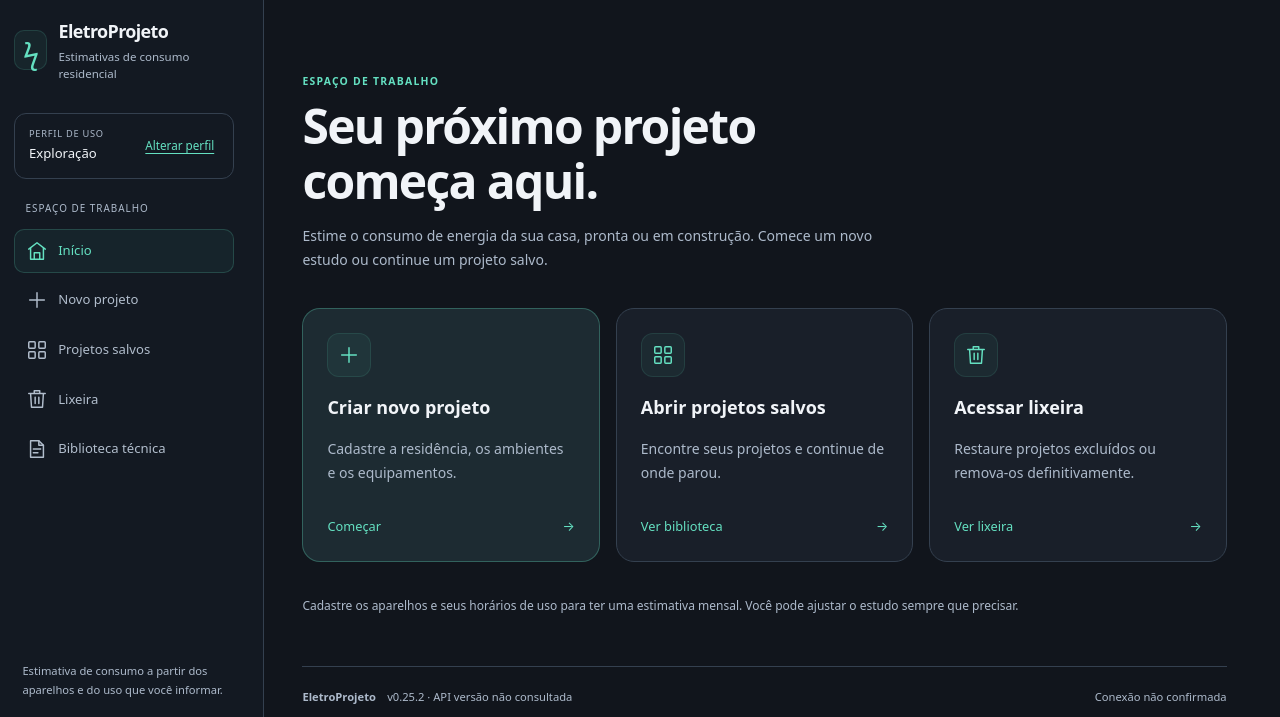
Test case: removes recent projects and loads the library only when requested
Expected: the text "Recentes" is not shown
Click the button "Abrir projetos salvos" at (663, 355), box x1=616 y1=308 x2=913 y2=562
Wait 250 ms
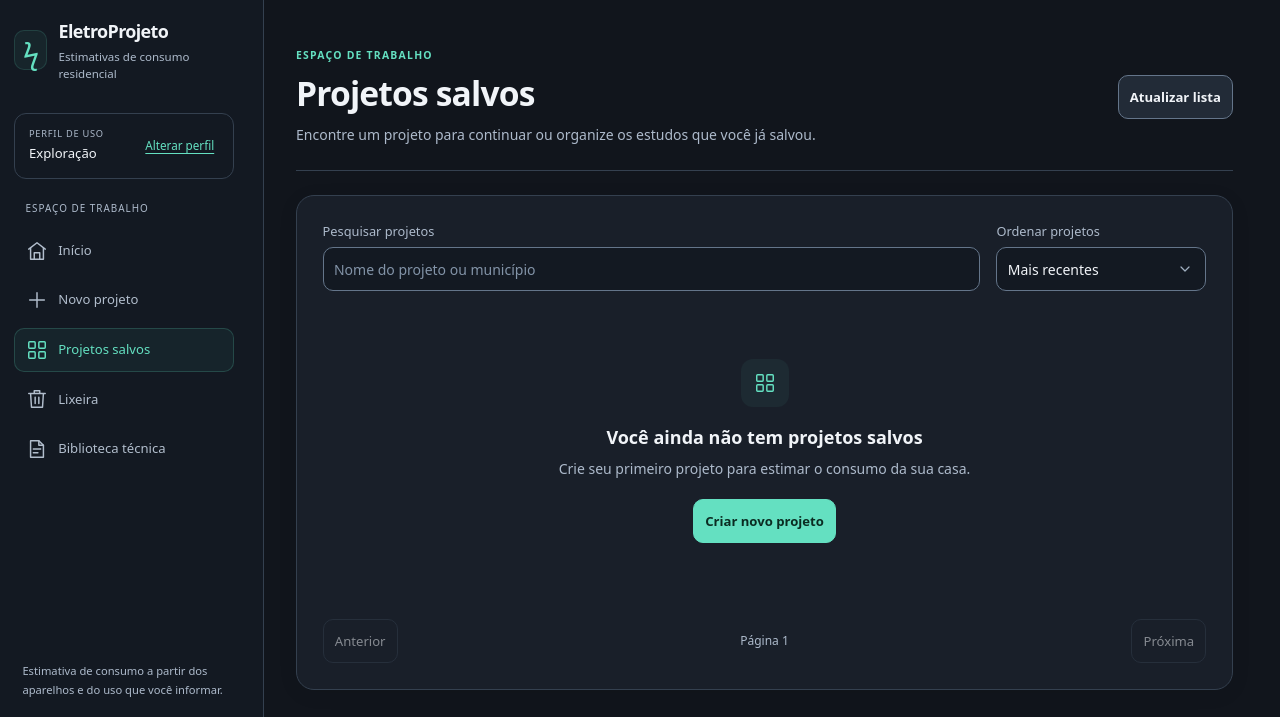
Expected: the element "Projetos salvos" is shown
